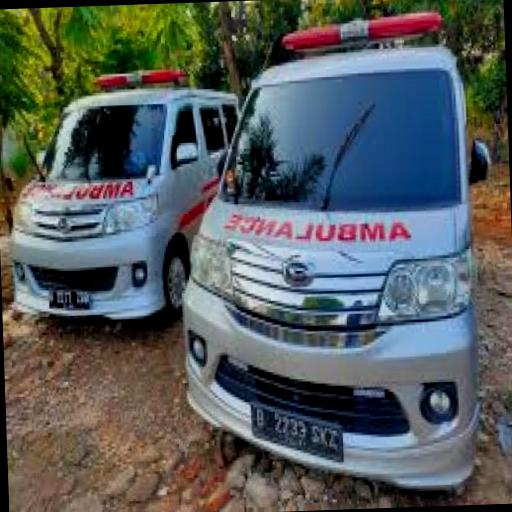Police car: (168, 18, 500, 496)
